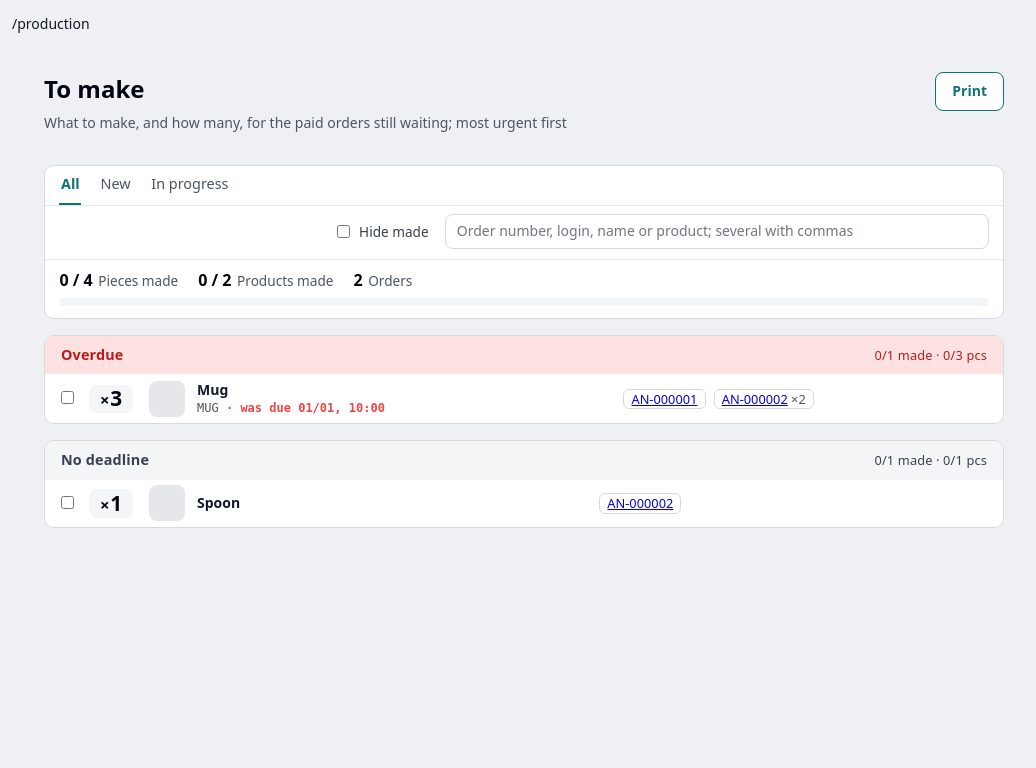
Scenario: ticking products off › undoes the tick and says so when it could not be saved
Click the checkbox named "Mark as made: Mug" at (68, 398), box [61, 391, 74, 404]
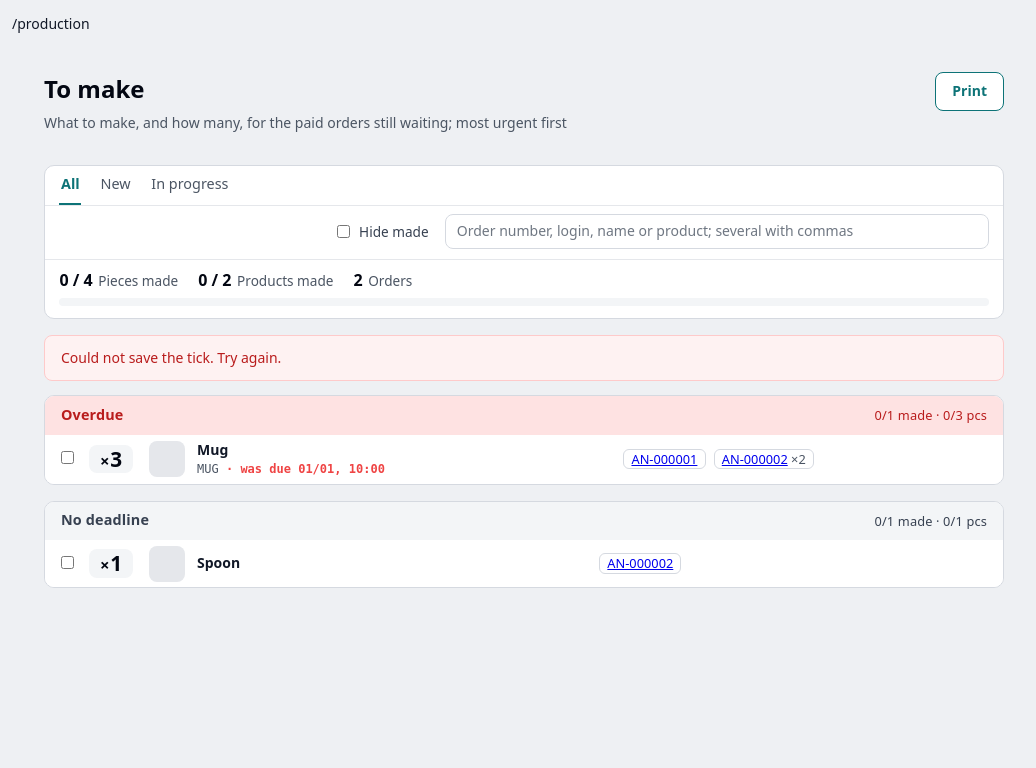
expect the checkbox named "Mark as made: Mug" is not checked: met, box [61, 452, 74, 464]
expect the message shows "Could not save the tick": met, box [61, 348, 281, 367]
